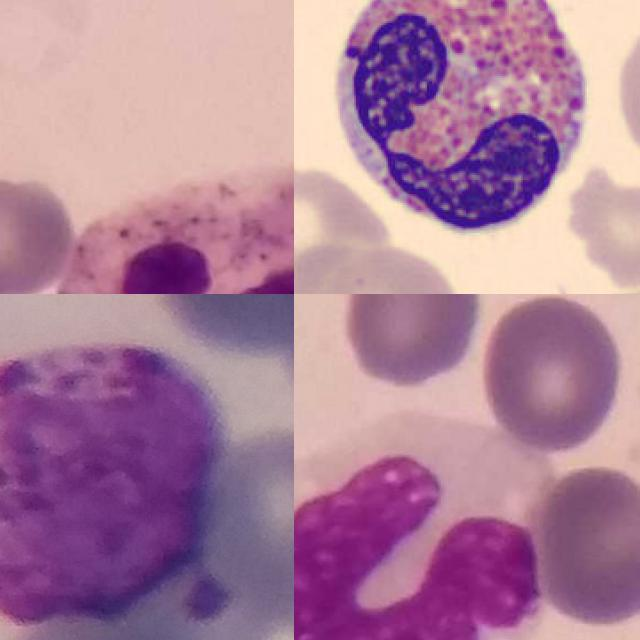Basophil: (0, 336, 226, 629)
Eosinophil: (316, 0, 608, 252)
Monocyte: (294, 409, 545, 640)
Neutrophil: (58, 162, 294, 294)
RBC: (294, 155, 396, 289), (562, 164, 640, 285), (294, 240, 464, 294)
